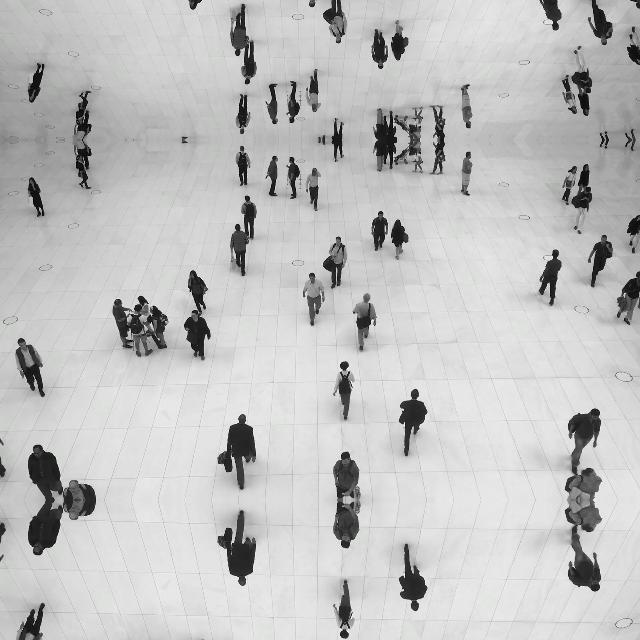person: (566, 408, 602, 474), (566, 526, 602, 592), (226, 414, 256, 490), (226, 510, 256, 586), (398, 388, 428, 456), (398, 544, 428, 612), (27, 444, 63, 500), (27, 500, 63, 556), (14, 338, 46, 398), (352, 293, 378, 352), (586, 234, 614, 288), (332, 578, 356, 640), (332, 452, 362, 501), (332, 499, 362, 548), (332, 361, 356, 422), (183, 310, 211, 362), (128, 304, 154, 358), (322, 237, 348, 290), (538, 250, 562, 306), (616, 271, 640, 325), (302, 272, 326, 326), (564, 468, 604, 500), (564, 500, 604, 532), (586, 0, 613, 46), (14, 602, 45, 640), (111, 298, 133, 349), (322, 0, 348, 43), (571, 186, 593, 234), (571, 46, 593, 94), (229, 224, 249, 276), (229, 4, 249, 56), (188, 270, 208, 316), (148, 306, 168, 350), (390, 218, 410, 260), (240, 195, 258, 241), (240, 39, 258, 85), (390, 20, 410, 61), (304, 167, 322, 211), (304, 69, 322, 113), (27, 176, 45, 218), (371, 210, 389, 252), (537, 0, 562, 30), (27, 63, 45, 104), (371, 29, 389, 70), (63, 480, 97, 500), (63, 500, 97, 520), (235, 146, 251, 187), (562, 166, 578, 206), (235, 94, 251, 134), (562, 74, 578, 114), (286, 156, 300, 200), (286, 80, 300, 124), (429, 140, 446, 176), (429, 104, 446, 140), (76, 154, 92, 190), (76, 90, 92, 126), (626, 214, 640, 254), (626, 26, 640, 66), (72, 140, 90, 170), (72, 110, 90, 140), (460, 152, 472, 196), (460, 84, 472, 128), (372, 140, 388, 172), (372, 108, 388, 140), (266, 155, 278, 197), (136, 294, 154, 322), (266, 83, 278, 125), (577, 164, 591, 196), (577, 84, 591, 116), (384, 140, 398, 170), (384, 110, 398, 140), (408, 140, 422, 164), (408, 116, 422, 140), (332, 140, 344, 162), (332, 118, 344, 140), (0, 438, 6, 478), (0, 522, 6, 562), (412, 153, 423, 173), (412, 107, 423, 127), (616, 0, 640, 9), (187, 0, 208, 10), (302, 0, 325, 8), (625, 140, 637, 152), (625, 128, 637, 140), (600, 140, 610, 148), (600, 132, 610, 140), (183, 638, 211, 640)
